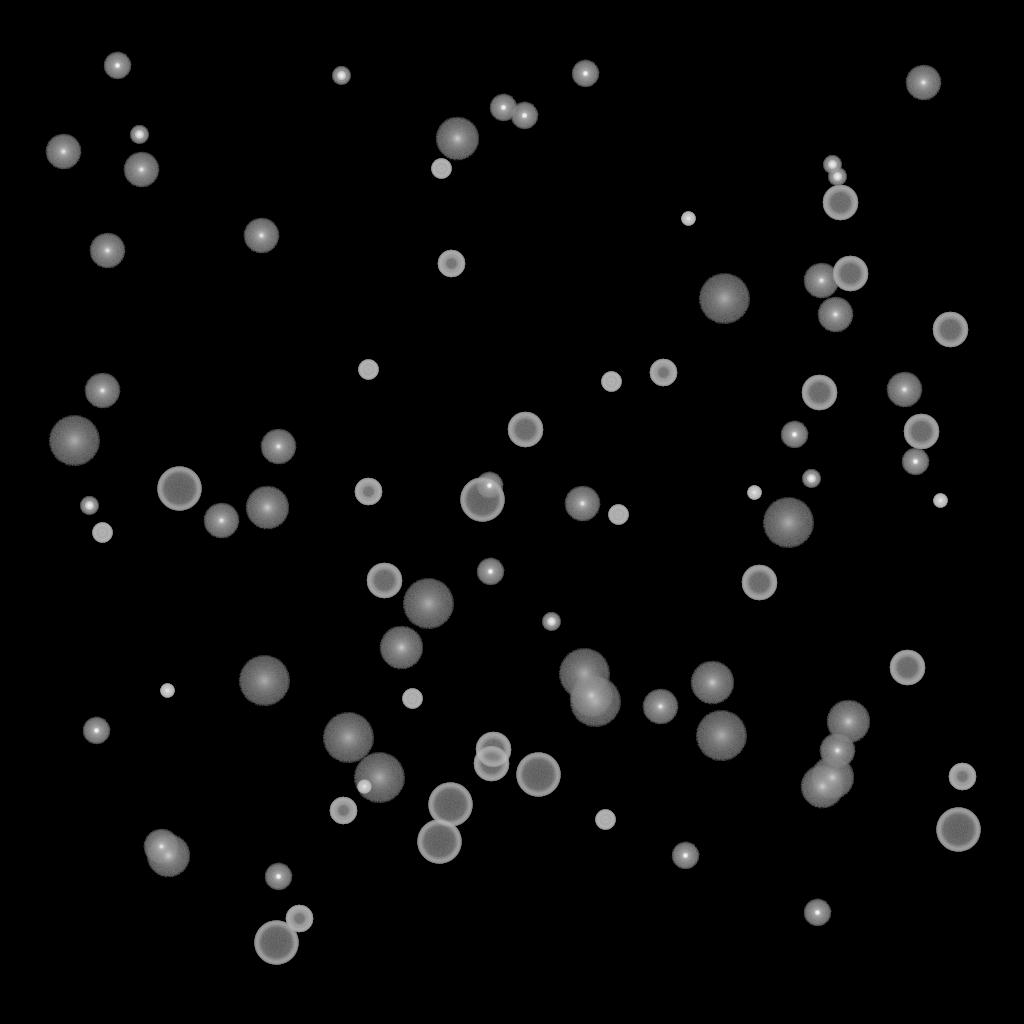depth:-10: (510, 102, 538, 130), (476, 558, 504, 586), (571, 60, 599, 88), (264, 863, 292, 891), (671, 842, 699, 870), (901, 448, 929, 476), (103, 52, 131, 80), (780, 421, 808, 449), (475, 472, 503, 500), (803, 899, 831, 927), (489, 94, 517, 122), (82, 717, 110, 745)
depth:-20: (802, 470, 820, 488), (332, 67, 350, 85), (542, 613, 560, 631), (80, 497, 98, 515), (130, 126, 148, 144), (828, 168, 846, 186), (823, 156, 841, 174)
depth:-30: (681, 212, 695, 226), (160, 684, 174, 698), (933, 494, 947, 508), (357, 780, 371, 794), (747, 486, 761, 500)
depth:-40: (358, 360, 378, 380), (601, 372, 621, 392), (92, 523, 112, 543), (431, 159, 451, 179), (402, 689, 422, 709), (595, 810, 615, 830), (608, 505, 628, 525)
depth:-50: (437, 250, 465, 278), (285, 905, 313, 933), (948, 763, 976, 791), (354, 478, 382, 506), (649, 359, 677, 387), (329, 797, 357, 825)
depth:-60: (889, 650, 925, 686), (741, 565, 777, 601), (801, 375, 837, 411), (475, 732, 511, 768), (932, 312, 968, 348), (366, 563, 402, 599), (473, 746, 509, 782), (822, 185, 858, 221), (507, 412, 543, 448), (903, 414, 939, 450), (832, 256, 868, 292)
depth:-70: (516, 753, 560, 797), (254, 921, 298, 965), (428, 783, 472, 827), (936, 808, 980, 852), (460, 478, 504, 522), (417, 820, 461, 864), (157, 467, 201, 511)
depth:0: (89, 233, 125, 269), (642, 689, 678, 725), (243, 218, 279, 254), (803, 263, 839, 299), (905, 65, 941, 101), (123, 152, 159, 188), (45, 134, 81, 170), (817, 297, 853, 333), (886, 372, 922, 408), (84, 373, 120, 409), (819, 733, 855, 769), (260, 429, 296, 465), (564, 486, 600, 522), (143, 829, 179, 865), (203, 503, 239, 539)
depth:10: (435, 117, 479, 161), (569, 674, 613, 718), (810, 756, 854, 800), (146, 834, 190, 878), (245, 486, 289, 530), (800, 765, 844, 809), (690, 661, 734, 705), (826, 700, 870, 744), (379, 626, 423, 670)
depth:20: (569, 677, 621, 727), (695, 711, 747, 761), (698, 274, 750, 324), (762, 498, 814, 548), (48, 416, 100, 466), (402, 579, 454, 629), (322, 713, 374, 763), (238, 656, 290, 706), (353, 753, 405, 803), (558, 649, 610, 699)
